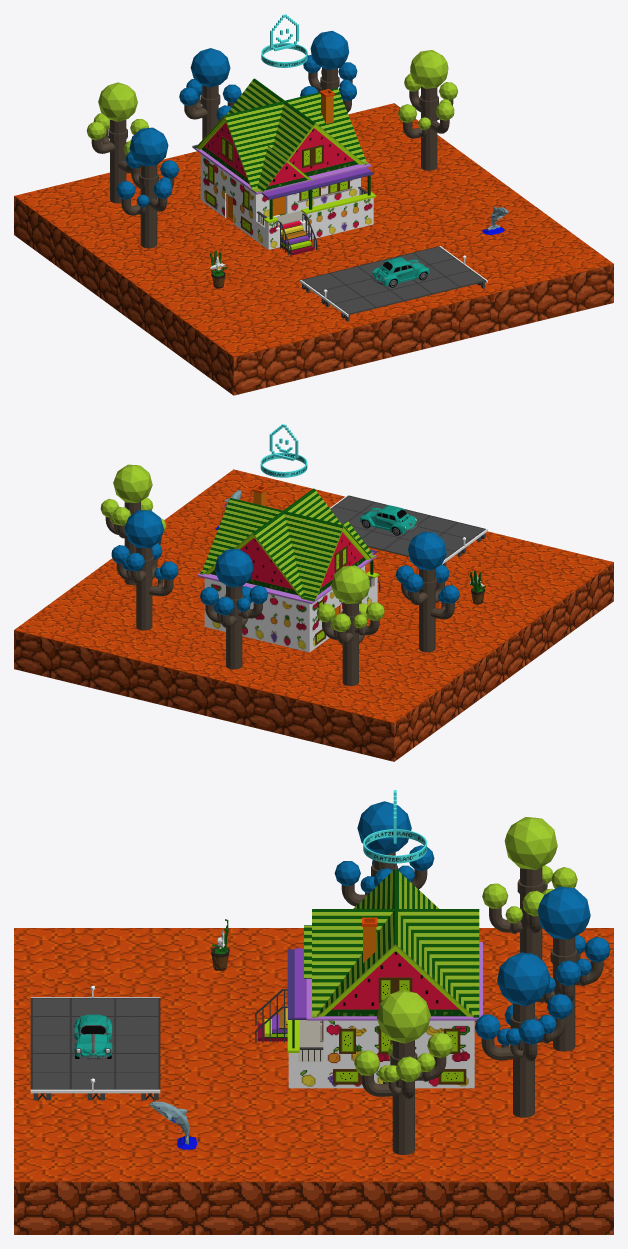
3 views of the same model, one above another, from view 1: azimuth 30°, elevation 25°; view 2: azimuth 150°, elevation 25°; view 3: azimuth 270°, elevation 25° (orthographic). The views are drawn at different scales.
Visible parts, largest first — view 1: Cube.001, Cube.1063, VEHICLES_VOLKSWAGEN, TYPE_PREMIUM; view 2: Cube.001, Cube.1063, VEHICLES_VOLKSWAGEN, TYPE_PREMIUM; view 3: Cube.001, Cube.1063, VEHICLES_VOLKSWAGEN, TYPE_PREMIUM, ANIMAL_DELFIN.
Part boxes in pixels (bbox=[...]): Cube.001: bbox=[14, 30, 613, 395]; Cube.1063: bbox=[192, 78, 376, 256]; VEHICLES_VOLKSWAGEN: bbox=[371, 257, 429, 287]; TYPE_PREMIUM: bbox=[261, 14, 307, 67]; Cube.001: bbox=[14, 464, 613, 761]; Cube.1063: bbox=[197, 485, 380, 652]; VEHICLES_VOLKSWAGEN: bbox=[359, 505, 417, 535]; TYPE_PREMIUM: bbox=[260, 424, 307, 477]; Cube.001: bbox=[14, 801, 613, 1234]; Cube.1063: bbox=[255, 869, 482, 1088]; VEHICLES_VOLKSWAGEN: bbox=[74, 1014, 112, 1059]; TYPE_PREMIUM: bbox=[363, 790, 426, 863]; ANIMAL_DELFIN: bbox=[149, 1101, 198, 1150].
Bounding box in the file's own units: 4000 × 2413 × 4000.
Materials: 35 (7 with a texture image).
